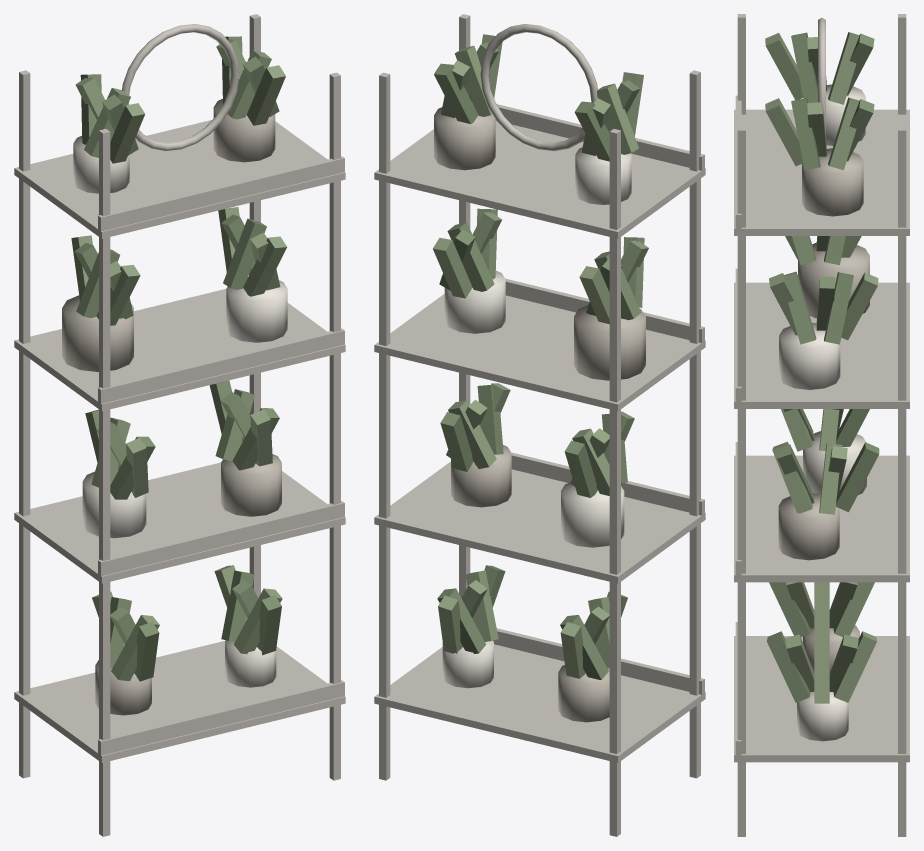
Rendered from etagere.glb.
The picture shows the model from 3 angles, left to right: view 1: azimuth 30°, elevation 25°; view 2: azimuth 150°, elevation 25°; view 3: azimuth 270°, elevation 25°; orthographic projection.
Visible parts, largest first — view 1: root; view 2: root; view 3: root.
Part boxes in pixels (x1,y1,x2,y2): root: (14, 14, 345, 836); root: (374, 14, 705, 836); root: (734, 14, 909, 836).
Bounding box in the file's own units: 0.5639 × 1.66 × 0.3505.
